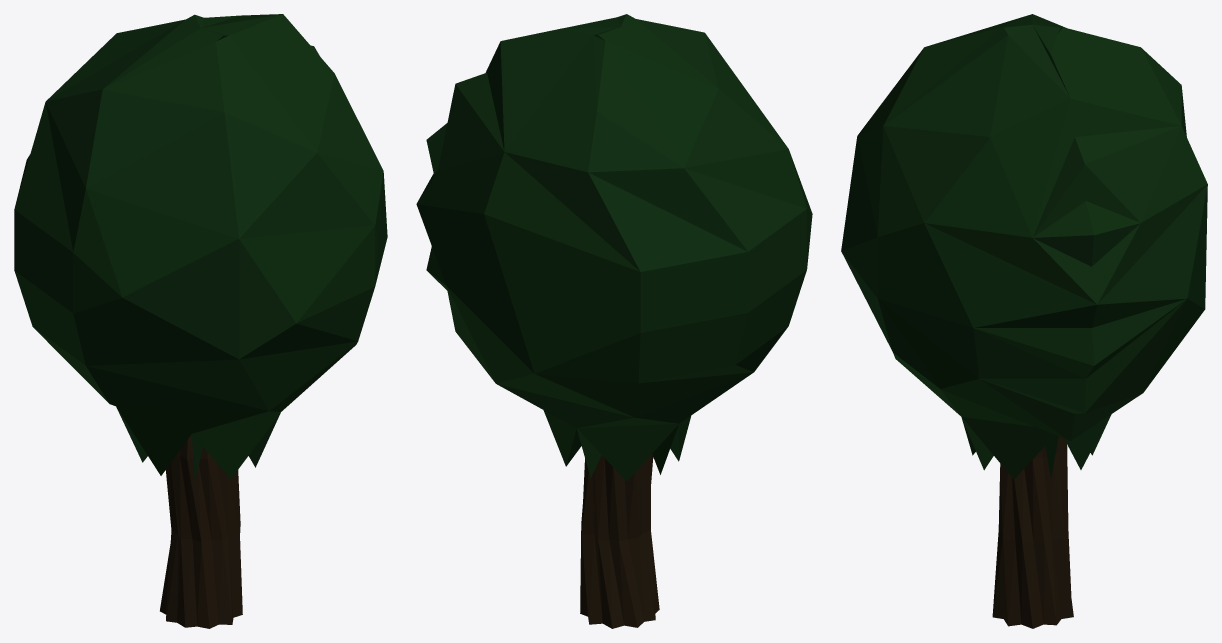
Rendered from NormalTree_DarkGreen.fbx.
3 renders of one model, left to right at view 1: azimuth 30°, elevation 25°; view 2: azimuth 150°, elevation 25°; view 3: azimuth 270°, elevation 25°, orthographic.
Visible parts, largest first — view 1: Trees:pSphere1, Trees:pCylinder1; view 2: Trees:pSphere1, Trees:pCylinder1; view 3: Trees:pSphere1, Trees:pCylinder1.
Boxes of the visible parts, left/top/right/bottom form: Trees:pSphere1: left=14, top=14, right=387, bottom=481; Trees:pCylinder1: left=160, top=434, right=242, bottom=628; Trees:pSphere1: left=416, top=14, right=812, bottom=481; Trees:pCylinder1: left=580, top=454, right=659, bottom=628; Trees:pSphere1: left=841, top=14, right=1207, bottom=479; Trees:pCylinder1: left=992, top=437, right=1073, bottom=628.
Size of the model in its own units: 0.171 by 0.291 by 0.1645.
